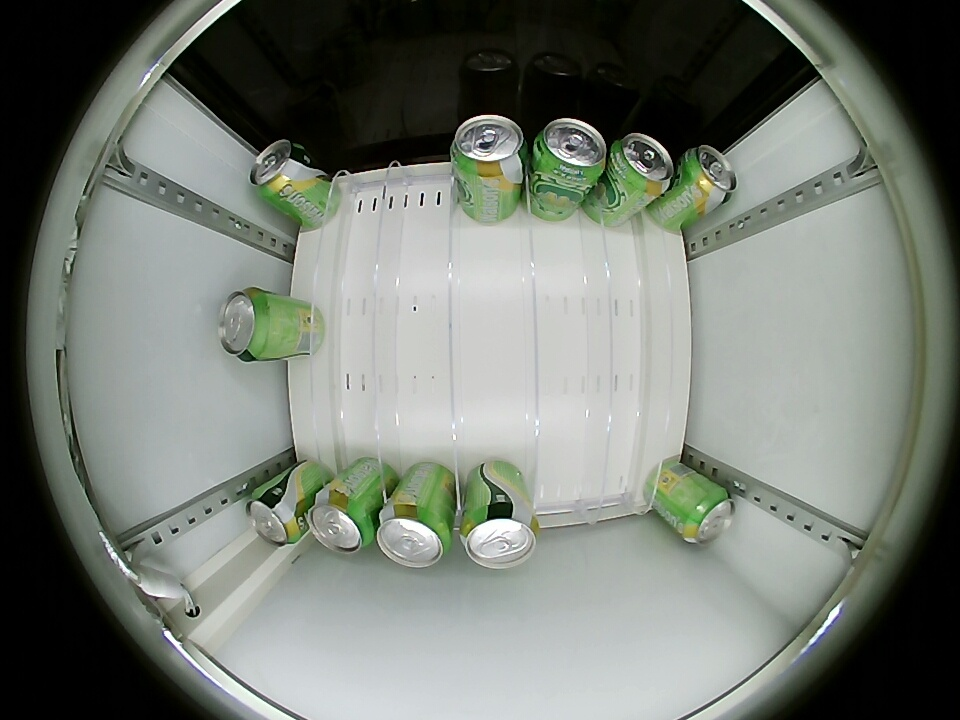quchenshixiangcao: (460, 501, 538, 569), (451, 115, 527, 180), (376, 504, 452, 568), (533, 118, 607, 182), (248, 139, 312, 205), (218, 287, 274, 362), (308, 492, 375, 554), (610, 133, 675, 195), (682, 144, 738, 207), (246, 488, 302, 547), (681, 485, 735, 545)
